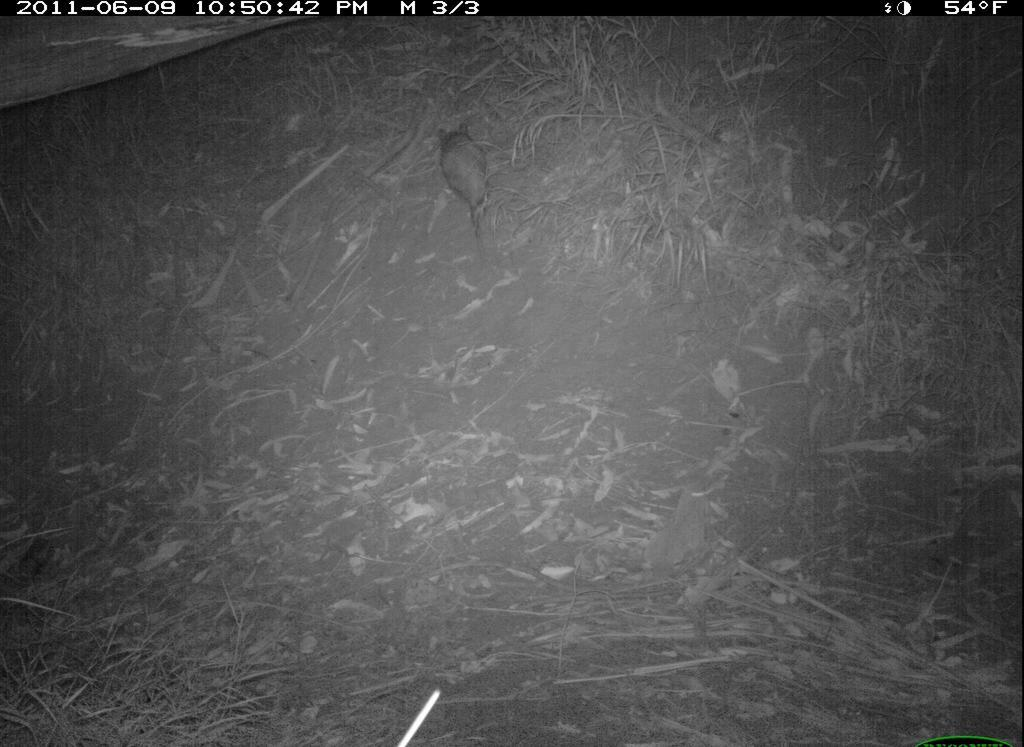opossum: (432, 118, 504, 250)
